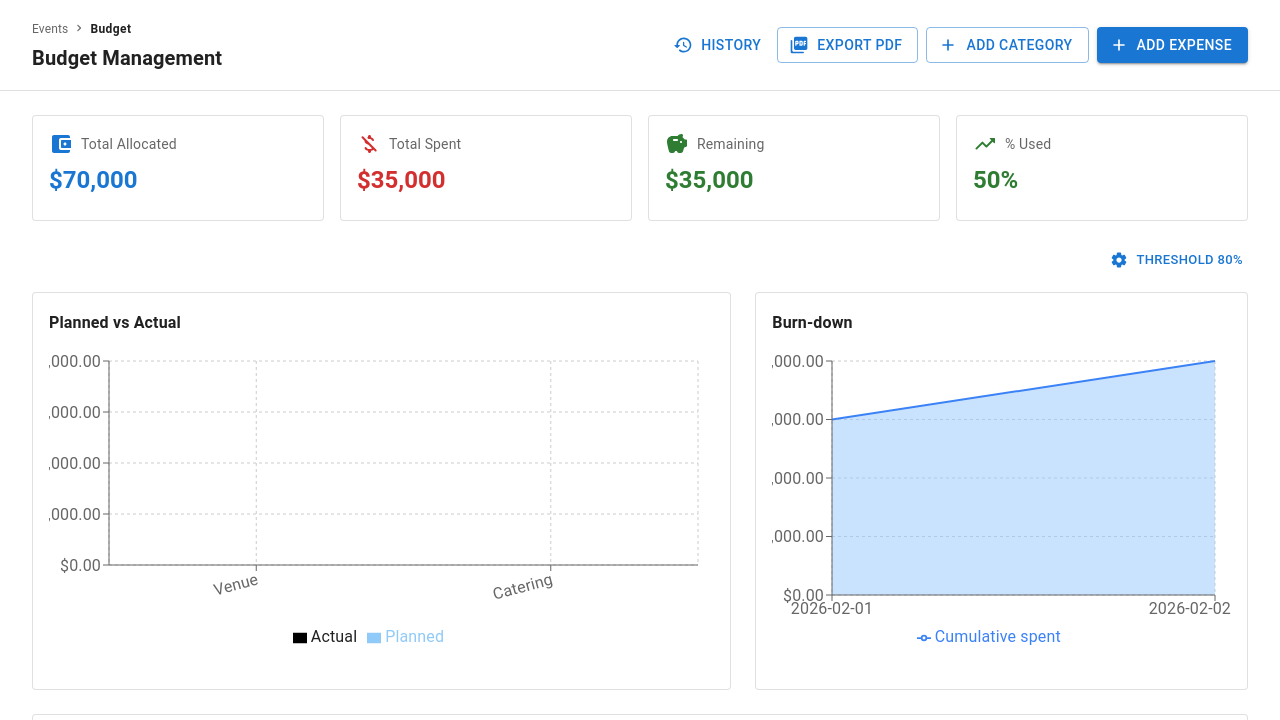
Test case: BudgetPage — Export PDF button › shows error alert when PDF generation fails
This screenshot has width=1280, height=720.
Expected: the heading "Budget Management" is shown, [32,42,222,74]
Click the button with aria-label "export expense summary as pdf" at point(848, 45), box [777,27,918,63]
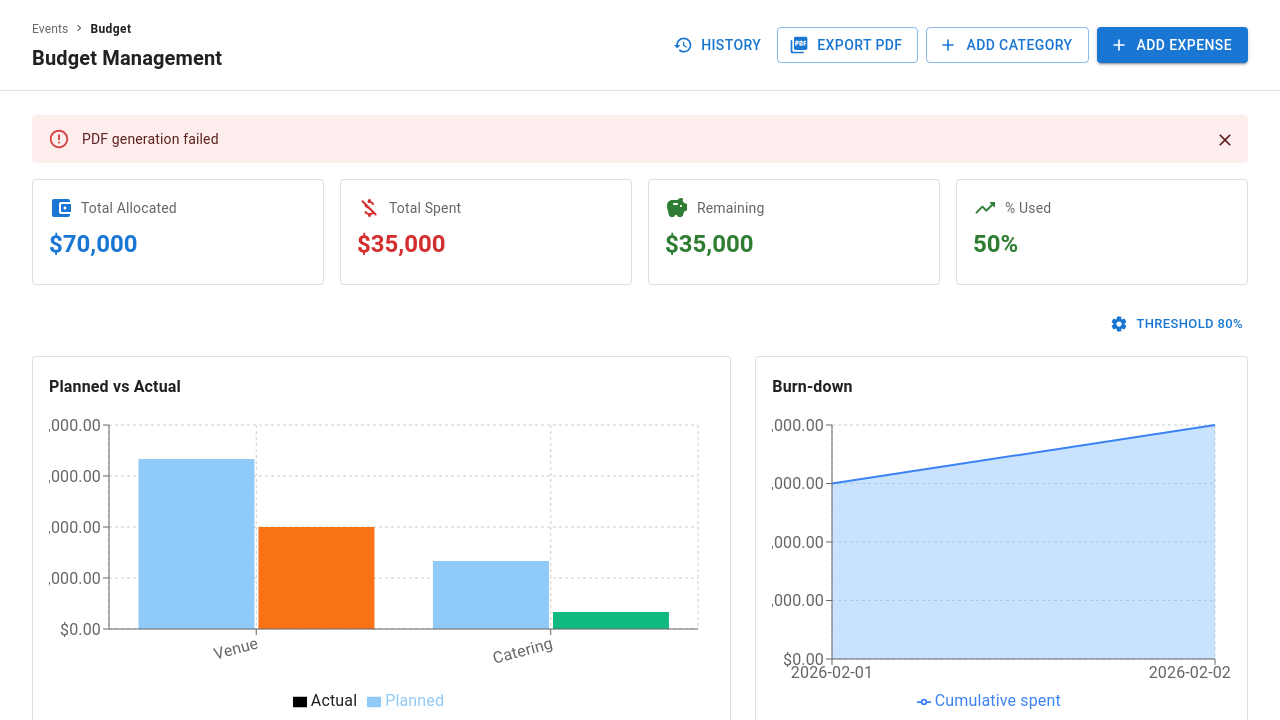
Now the message "PDF generation failed" is shown, box [32,115,1248,163]
Now the text "PDF generation failed" is shown, box [82,131,219,147]
